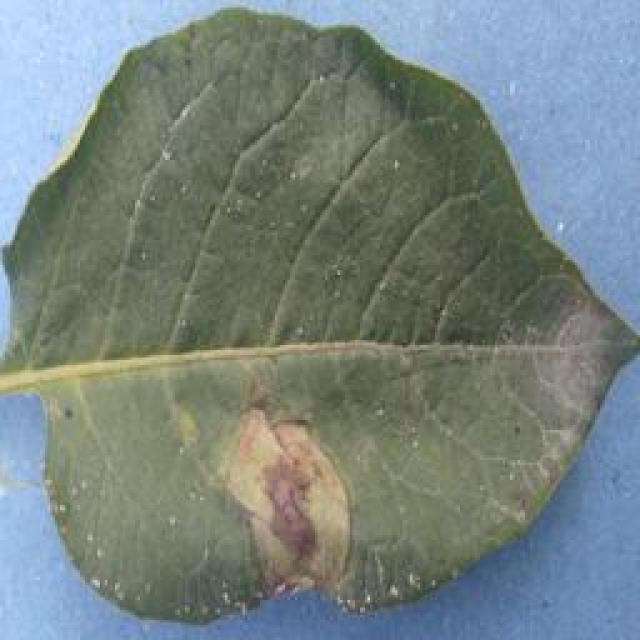Potato_Late_Blight: (0, 0, 576, 636)
